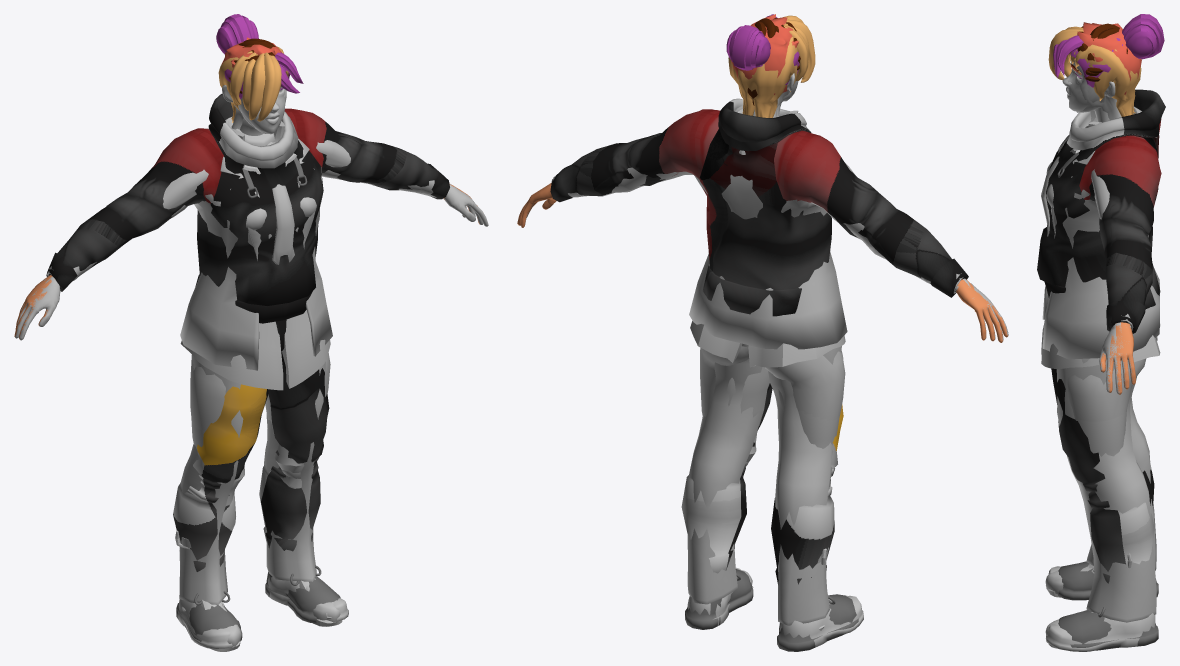
File: PERSONAJES_FINALES (3).fbx
3 renders of one model, left to right at view 1: azimuth 30°, elevation 25°; view 2: azimuth 150°, elevation 25°; view 3: azimuth 270°, elevation 25°, orthographic. The views are drawn at different scales.
Parts seen in each view (by area): view 1: PJH_01_BUSO, PJH_01_PANTALON.001, PJH_02_TRONCO, PJH_02_PANTALONES, PJM_02_TRONCO, PJM_02_CABELLO, PJH_01_ZAPATOS.001, PJM_01_PANTALON, PJH_02_ZAPATOS, PJM_01_CABELLO, PJM_02_PANTALON, PJM_01_CABEZA (+3 smaller); view 2: PJH_01_BUSO, PJH_02_PANTALONES, PJH_02_TRONCO, PJH_01_PANTALON.001, PJM_01_PANTALON, PJM_02_CABELLO, PJH_01_ZAPATOS.001, PJM_02_TRONCO, PJH_02_ZAPATOS, PJM_01_CABELLO, PJM_02_PANTALON, PJH_01_CABELLO1; view 3: PJH_01_BUSO, PJH_02_PANTALONES, PJH_02_TRONCO, PJH_01_PANTALON.001, PJH_01_ZAPATOS.001, PJM_02_CABELLO, PJM_01_PANTALON, PJM_01_CABELLO, PJH_02_ZAPATOS, PJM_02_TRONCO, PJM_02_PANTALON, PJH_01_CABELLO1 (+5 smaller).
Part boxes in pixels (x1=…): PJH_01_BUSO: x1=14, y1=93, x2=479, y2=339; PJH_01_PANTALON.001: x1=173, y1=319, x2=329, y2=571; PJH_02_TRONCO: x1=15, y1=117, x2=488, y2=370; PJH_02_PANTALONES: x1=179, y1=355, x2=326, y2=604; PJM_02_TRONCO: x1=73, y1=121, x2=434, y2=390; PJM_02_CABELLO: x1=218, y1=46, x2=288, y2=122; PJH_01_ZAPATOS.001: x1=176, y1=565, x2=340, y2=641; PJM_01_PANTALON: x1=190, y1=353, x2=330, y2=478; PJH_02_ZAPATOS: x1=178, y1=575, x2=348, y2=648; PJM_01_CABELLO: x1=216, y1=14, x2=303, y2=98; PJM_02_PANTALON: x1=191, y1=390, x2=328, y2=506; PJM_01_CABEZA: x1=222, y1=86, x2=285, y2=135; PJH_01_BUSO: x1=517, y1=98, x2=1007, y2=342; PJH_02_PANTALONES: x1=687, y1=343, x2=841, y2=625; PJH_02_TRONCO: x1=525, y1=167, x2=1008, y2=349; PJH_01_PANTALON.001: x1=681, y1=367, x2=843, y2=584; PJM_01_PANTALON: x1=700, y1=346, x2=845, y2=466; PJM_02_CABELLO: x1=728, y1=15, x2=815, y2=117; PJH_01_ZAPATOS.001: x1=685, y1=569, x2=858, y2=651; PJM_02_TRONCO: x1=568, y1=105, x2=930, y2=367; PJH_02_ZAPATOS: x1=687, y1=567, x2=863, y2=647; PJM_01_CABELLO: x1=726, y1=14, x2=799, y2=84; PJM_02_PANTALON: x1=700, y1=367, x2=839, y2=477; PJH_01_CABELLO1: x1=731, y1=14, x2=798, y2=94; PJH_01_BUSO: x1=1037, y1=89, x2=1165, y2=394; PJH_02_PANTALONES: x1=1056, y1=358, x2=1156, y2=622; PJH_02_TRONCO: x1=1041, y1=106, x2=1159, y2=394; PJH_01_PANTALON.001: x1=1051, y1=368, x2=1154, y2=583; PJH_01_ZAPATOS.001: x1=1058, y1=561, x2=1158, y2=650; PJM_02_CABELLO: x1=1048, y1=26, x2=1141, y2=116; PJM_01_PANTALON: x1=1067, y1=358, x2=1146, y2=421; PJM_01_CABELLO: x1=1053, y1=14, x2=1164, y2=87; PJH_02_ZAPATOS: x1=1045, y1=566, x2=1155, y2=651; PJM_02_TRONCO: x1=1041, y1=110, x2=1160, y2=369; PJM_02_PANTALON: x1=1075, y1=410, x2=1126, y2=456; PJH_01_CABELLO1: x1=1070, y1=22, x2=1141, y2=94.
Bounding box in the file's own units: 148 × 177 × 34.36.
